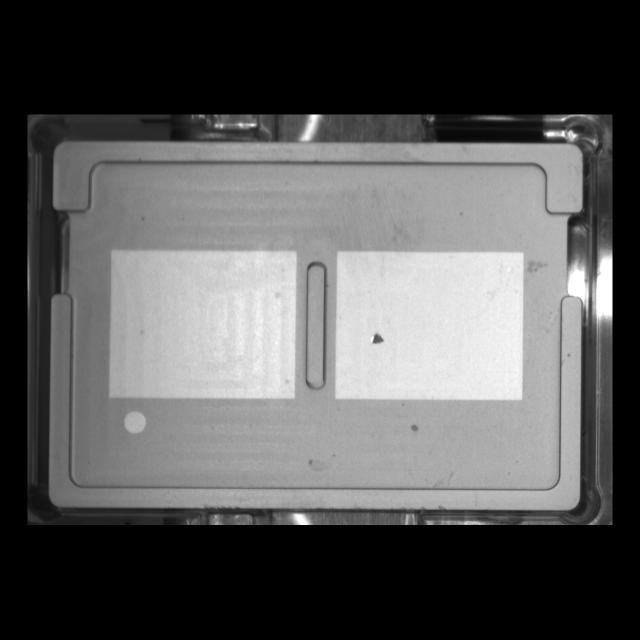door: (37, 128, 595, 230)
point: (113, 403, 156, 442)
